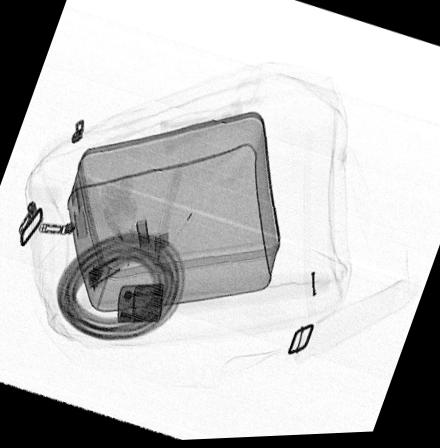Lighter: (116, 285, 164, 325)
